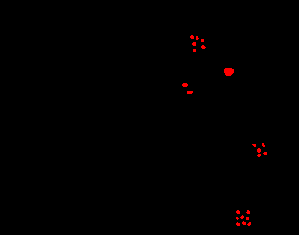Target: (224, 68, 234, 76), (182, 83, 188, 87), (201, 45, 206, 49), (257, 148, 261, 153), (187, 91, 193, 94), (190, 35, 194, 39), (192, 42, 196, 46), (236, 210, 240, 214), (246, 210, 250, 214), (240, 215, 244, 219), (242, 221, 246, 225), (236, 222, 240, 226), (247, 222, 251, 226), (196, 36, 199, 40), (262, 143, 265, 147), (252, 144, 256, 147), (263, 152, 267, 155), (257, 154, 261, 157), (201, 39, 204, 42), (193, 49, 196, 52), (236, 217, 239, 220), (246, 217, 249, 220)
